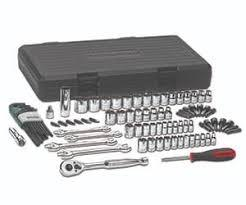wrench: (6, 100, 52, 147), (58, 155, 149, 177)
